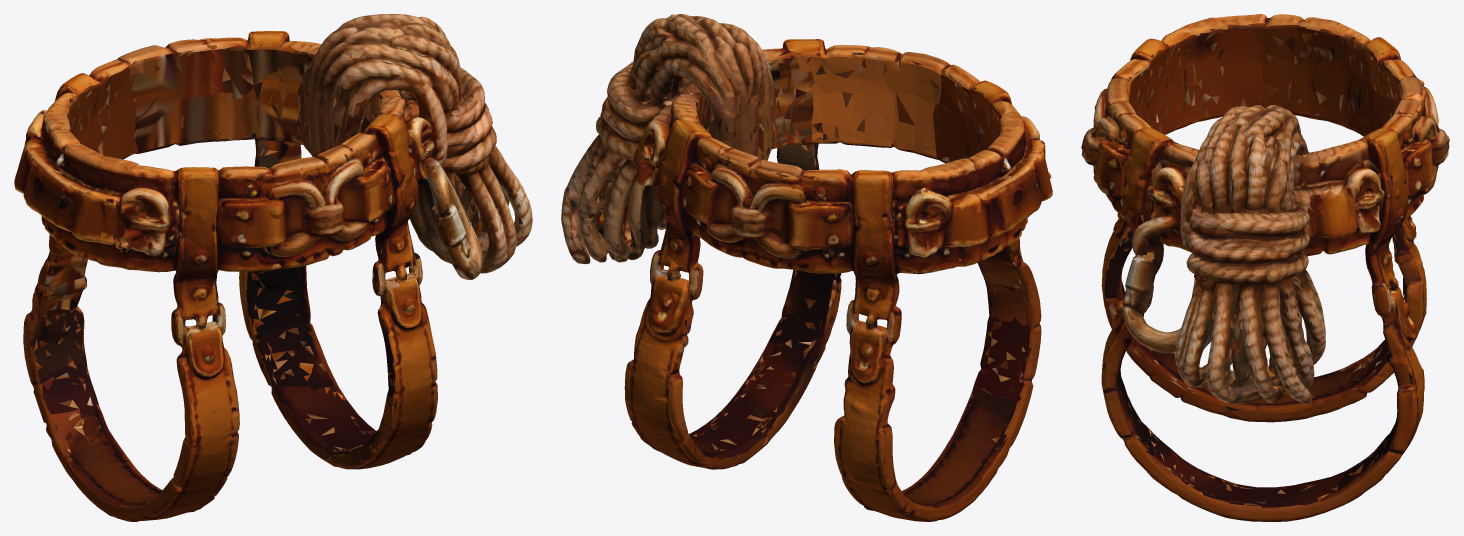
File: harness-and-rope.glb
The picture shows the model from 3 angles, left to right: view 1: azimuth 30°, elevation 25°; view 2: azimuth 150°, elevation 25°; view 3: azimuth 270°, elevation 25°; orthographic projection. The views are drawn at different scales.
Parts seen in each view (by area): view 1: geometry_0; view 2: geometry_0; view 3: geometry_0.
Part boxes in pixels (x1=…): geometry_0: x1=14, y1=14, x2=532, y2=521; geometry_0: x1=561, y1=14, x2=1052, y2=521; geometry_0: x1=1081, y1=14, x2=1449, y2=521.
Size of the model in its own units: 2.26 by 2 by 1.6.
1 material, 1 textured.
